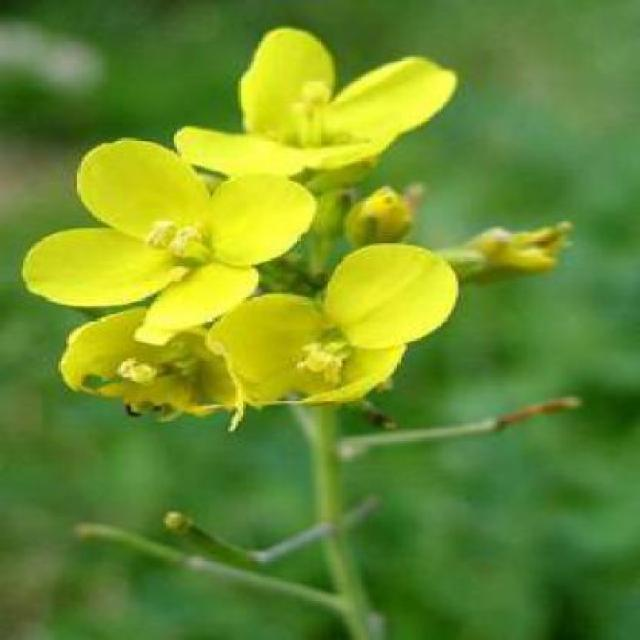Flower: (21, 138, 318, 345), (175, 27, 458, 182), (205, 243, 462, 405), (56, 309, 252, 432)
